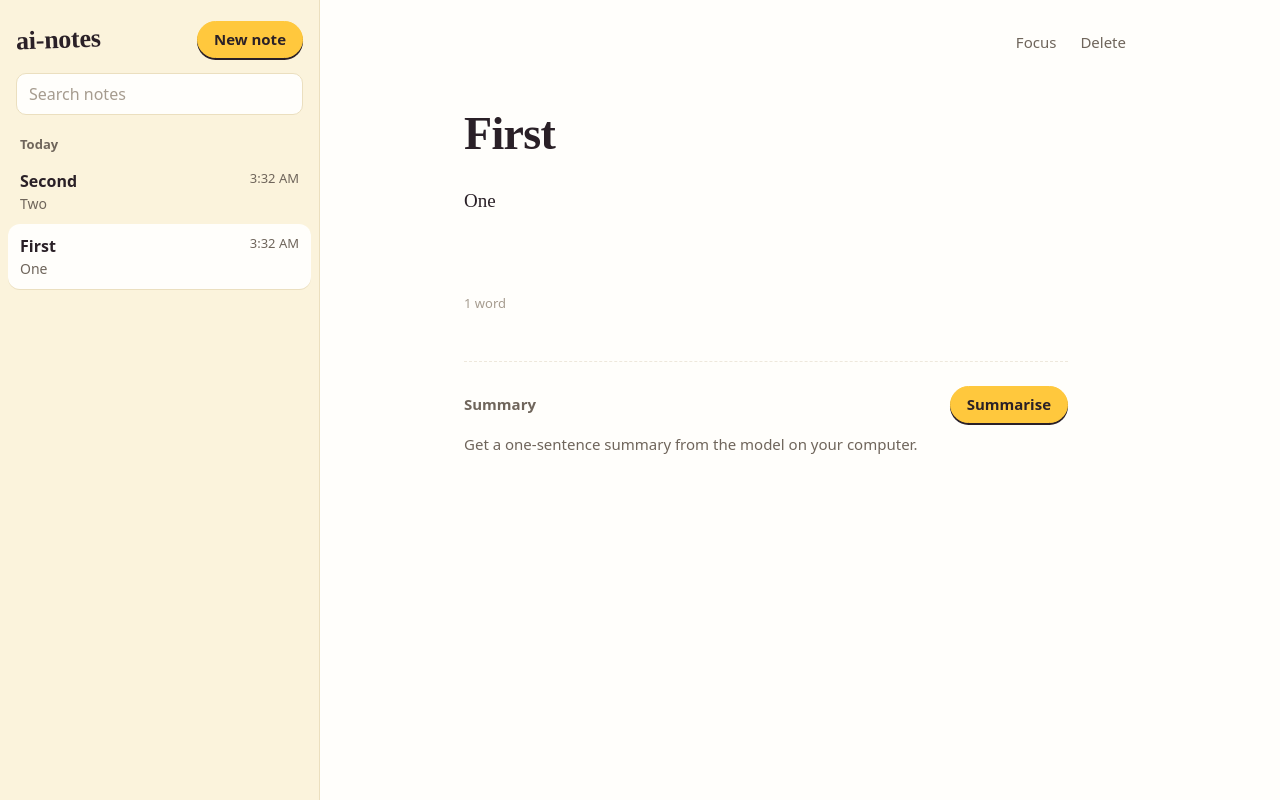
Test: writing › saves edits when you switch to another note
Type " more" into the text box showing "One" at (778, 233), box top-left (464, 185), bottom-right (1091, 282)
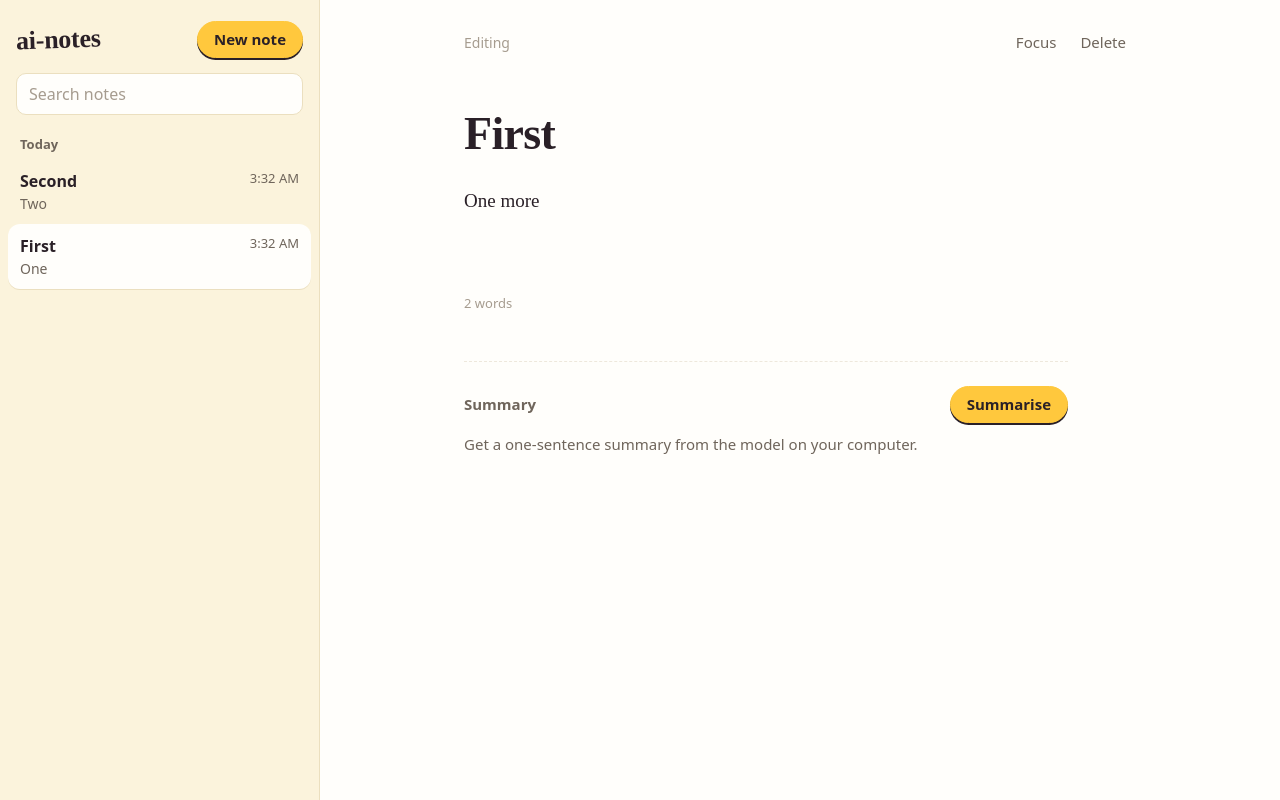
Click the link "Second 3:32 AM Two" at (49, 180), box top-left (8, 158), bottom-right (311, 224)
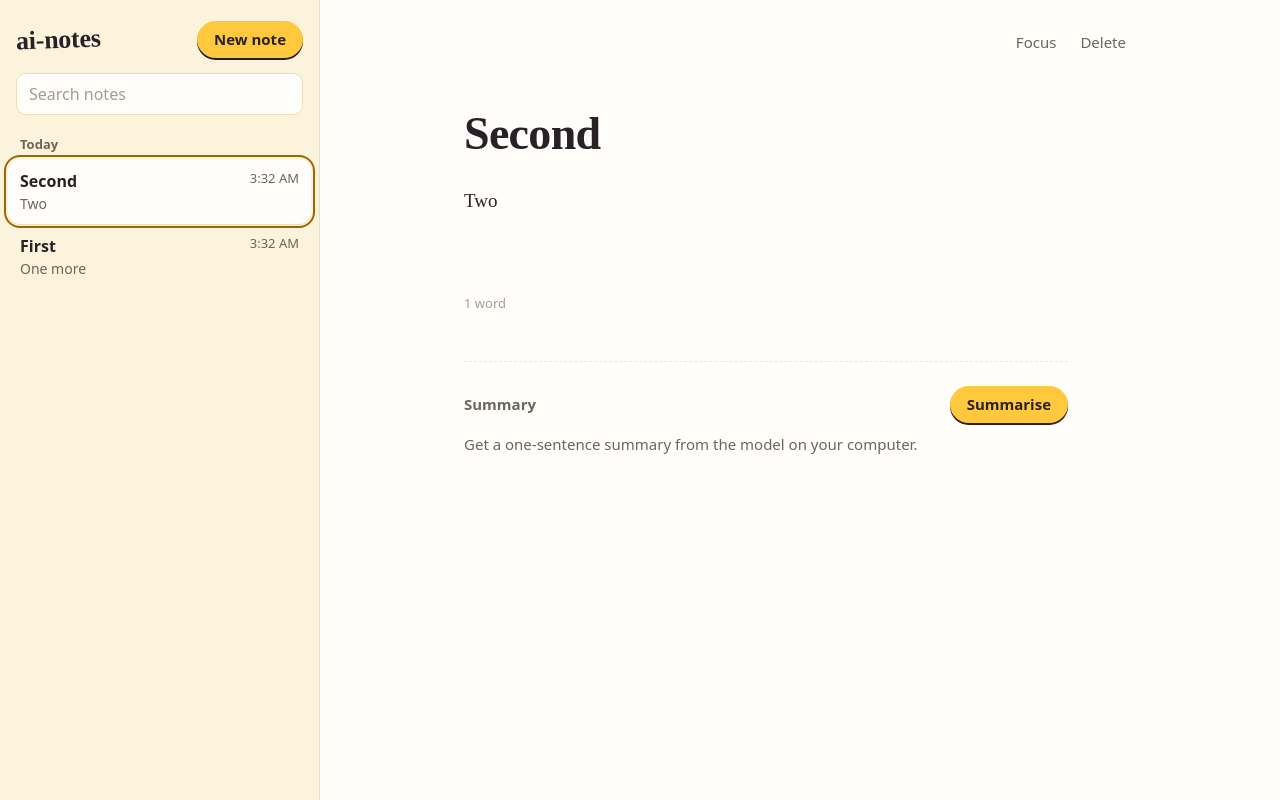
Check: the text box showing "Two" is shown, box top-left (464, 185), bottom-right (1091, 282)
Check: the text "One more" is shown, box top-left (20, 258), bottom-right (86, 278)
